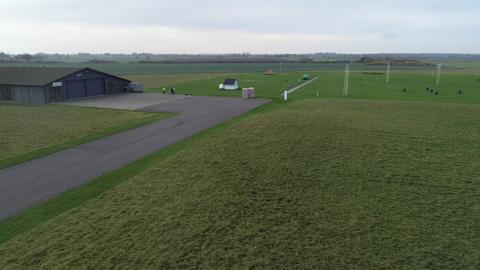RockwoolPallet: (247, 87, 255, 98)
